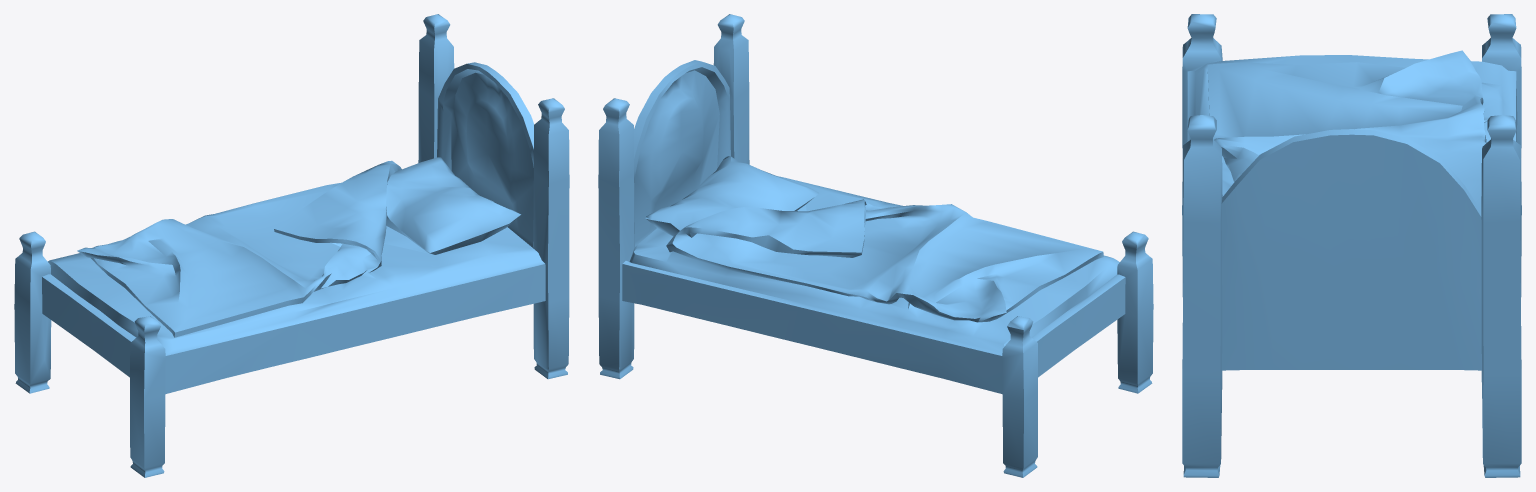
3 views of the same model, side by side, from view 1: azimuth 30°, elevation 25°; view 2: azimuth 150°, elevation 25°; view 3: azimuth 270°, elevation 25° (orthographic). The views are drawn at different scales.
Visible parts, largest first — view 1: defaultMaterial; view 2: defaultMaterial; view 3: defaultMaterial.
Boxes of the visible parts, x1=… form: defaultMaterial: x1=14, y1=14, x2=569, y2=477; defaultMaterial: x1=598, y1=14, x2=1153, y2=477; defaultMaterial: x1=1182, y1=14, x2=1521, y2=477.
Bounding box in the file's own units: 1 × 0.6145 × 0.5292.
